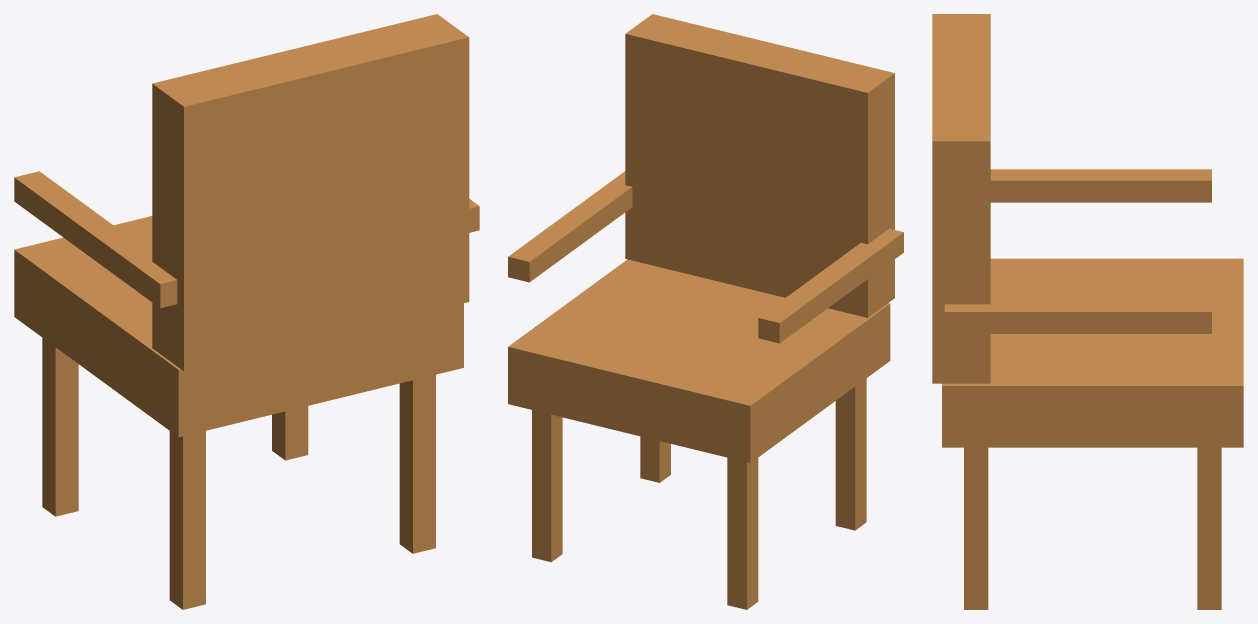
File: seat.glb
3 views of the same model, side by side, from view 1: azimuth 30°, elevation 25°; view 2: azimuth 150°, elevation 25°; view 3: azimuth 270°, elevation 25° (orthographic). The views are drawn at different scales.
Visible parts, largest first — view 1: XRift_seat; view 2: XRift_seat; view 3: XRift_seat.
Part boxes in pixels (box(x1,y1,x2,y2)): XRift_seat: box(14, 14, 479, 609); XRift_seat: box(508, 14, 903, 609); XRift_seat: box(932, 14, 1243, 609).
Bounding box in the file's own units: 0.695 × 1.08 × 0.64.
